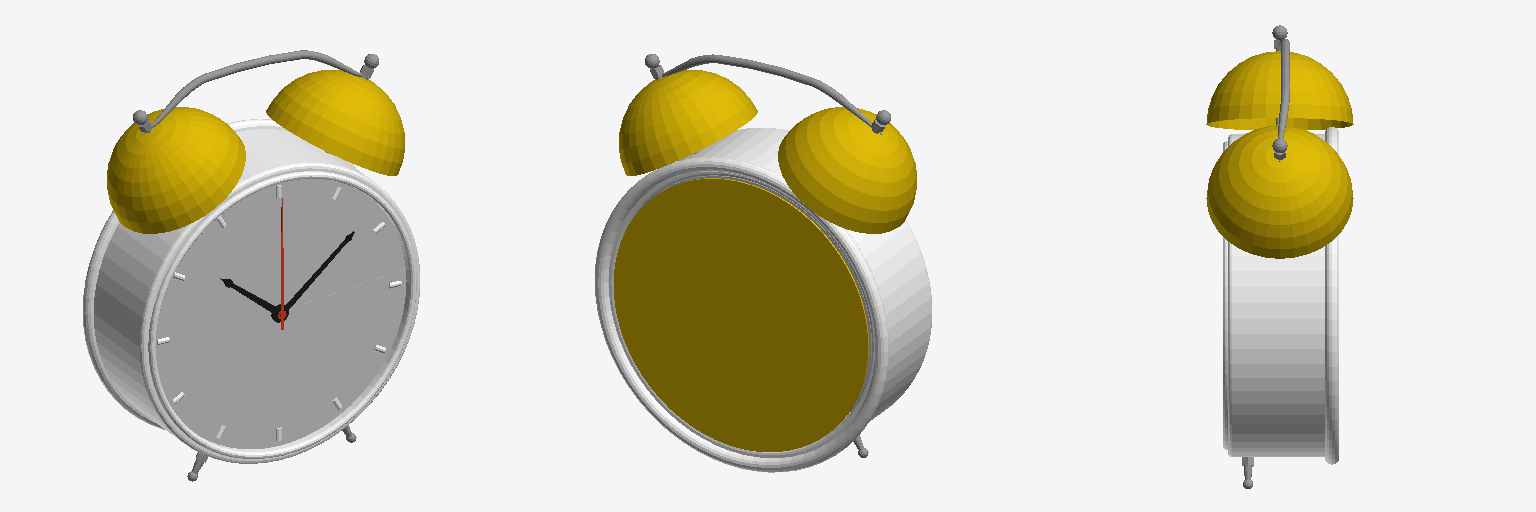
File: clock.obj
3 views of the same model, side by side, from view 1: azimuth 30°, elevation 25°; view 2: azimuth 150°, elevation 25°; view 3: azimuth 270°, elevation 25° (orthographic).
Parts seen in each view (by area): view 1: front_cover, Sphere_1, Tube, Tube.1, Torus, Sweep, minute_hand; view 2: back_cover, Sphere_1, Tube, Torus, Sweep, front_cover.1; view 3: Sphere_1, Tube, Torus, Tube.1, Sweep.
Boxes of the visible parts, x1,y1,x2,y2 form: front_cover: [156, 179, 406, 448]; Sphere_1: [107, 70, 404, 233]; Tube: [94, 129, 419, 463]; Tube.1: [148, 171, 416, 458]; Torus: [83, 119, 355, 429]; Sweep: [142, 50, 369, 134]; minute_hand: [275, 231, 354, 320]; back_cover: [614, 178, 868, 451]; Sphere_1: [619, 70, 916, 233]; Tube: [609, 128, 931, 457]; Torus: [595, 157, 888, 472]; Sweep: [654, 54, 881, 134]; front_cover.1: [682, 176, 870, 411]; Sphere_1: [1206, 51, 1353, 258]; Tube: [1228, 134, 1324, 456]; Torus: [1325, 127, 1338, 464]; Tube.1: [1223, 141, 1227, 449]; Sweep: [1277, 38, 1289, 161].
Bounding box in the file's own units: 137 × 173 × 59.54.